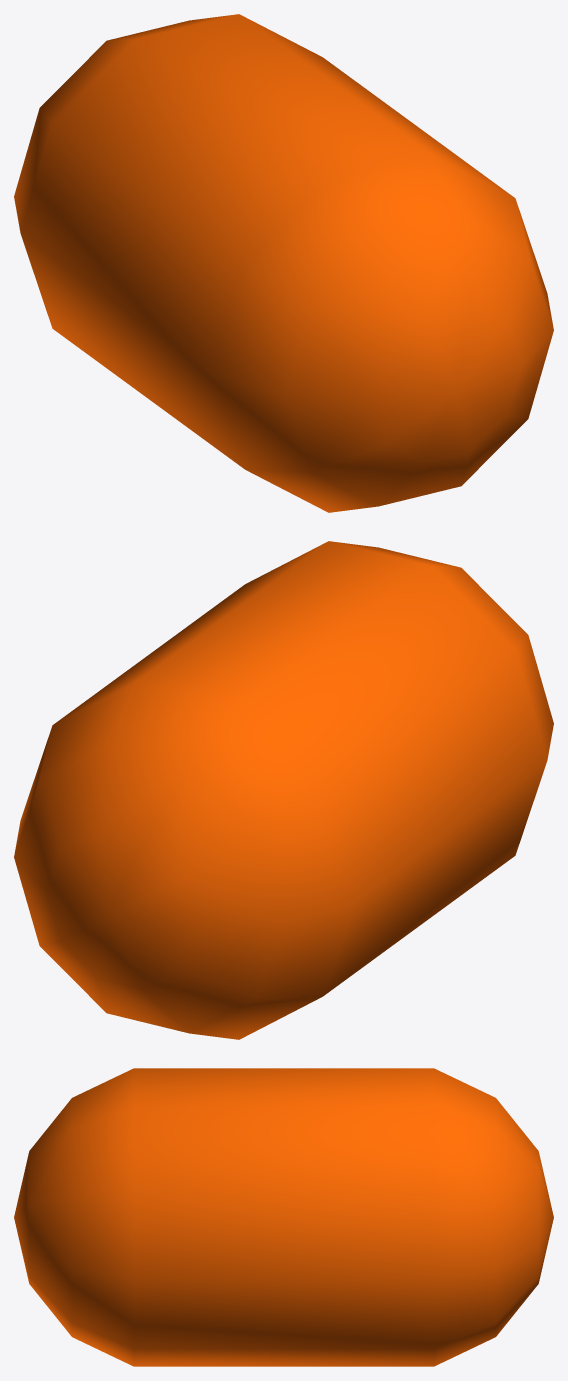
Rendered from orange.dae.
3 renders of one model, top to bottom at view 1: azimuth 30°, elevation 25°; view 2: azimuth 150°, elevation 25°; view 3: azimuth 270°, elevation 25°, orthographic. The views are drawn at different scales.
Parts seen in each view (by area): view 1: Sphere07; view 2: Sphere07; view 3: Sphere07.
Boxes of the visible parts, x1,y1,x2,y2 form: Sphere07: (14,14,553,512); Sphere07: (14,541,553,1039); Sphere07: (14,1068,553,1366).
Bounding box in the file's own units: 0.9983 × 0.9495 × 1.79.
